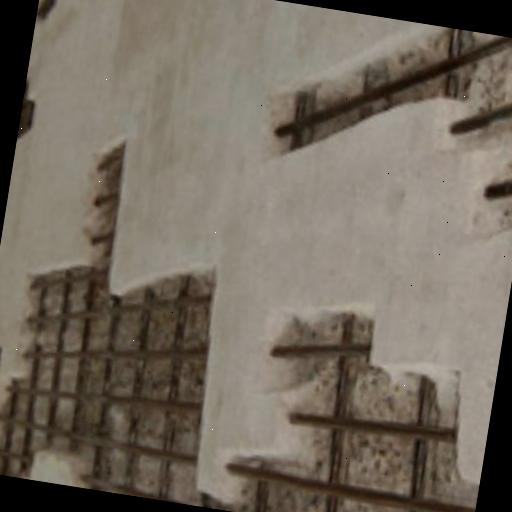spalling: (0, 144, 480, 512), (264, 25, 512, 231)
